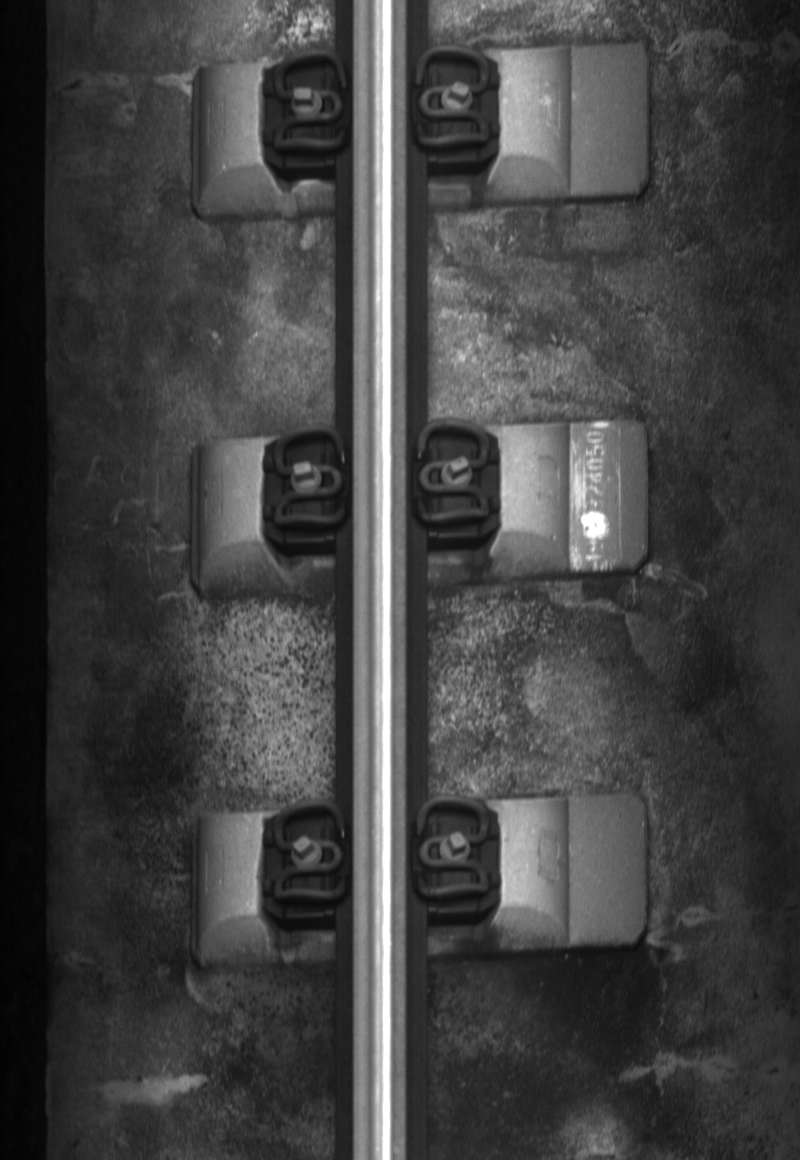l_faster: (265, 795, 351, 915), (265, 420, 348, 536), (268, 46, 352, 158)
r_faster: (408, 414, 496, 535), (408, 791, 494, 908), (408, 40, 493, 157)
